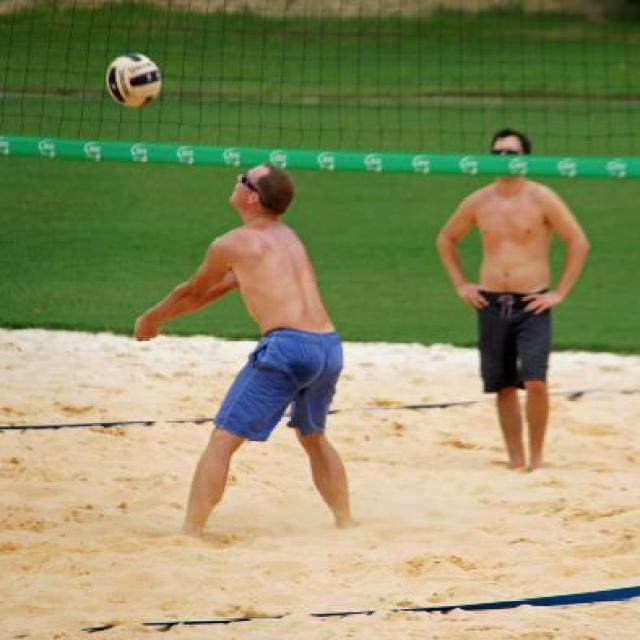volleyball: (106, 54, 162, 107)
